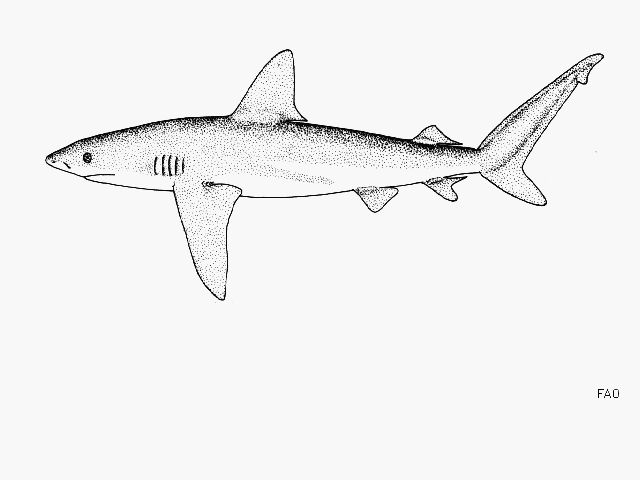fish: (46, 48, 604, 300)
